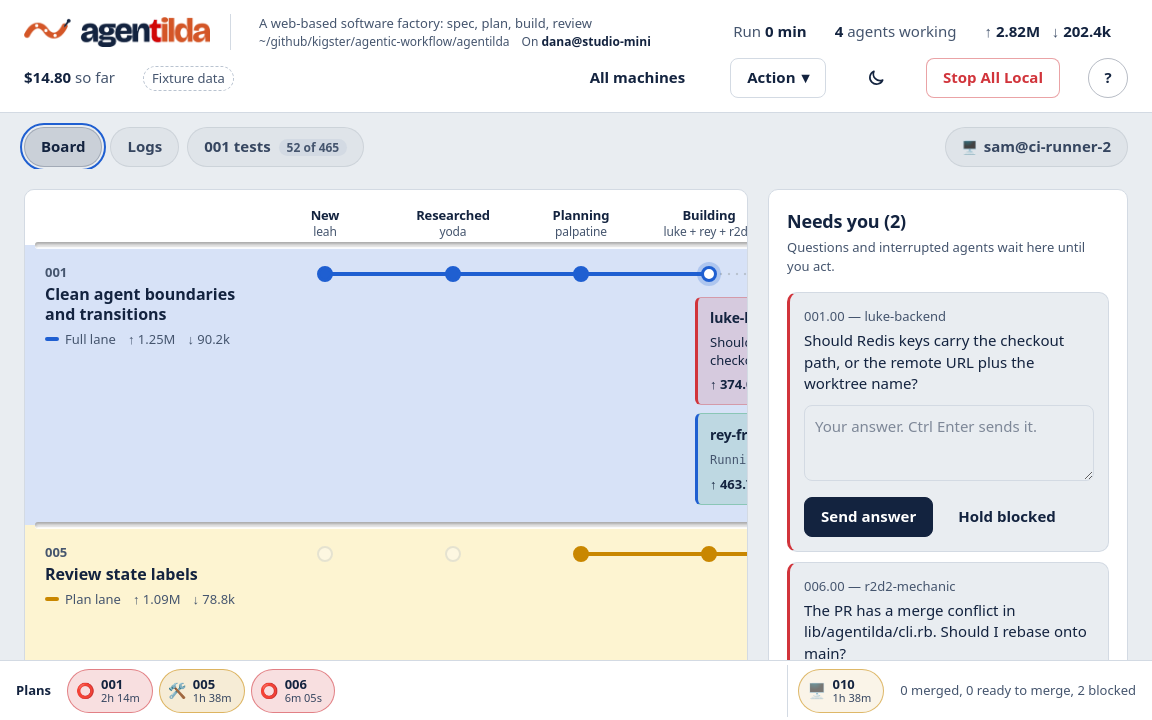
it: under ?fixture › switches tabs with the arrow keys and shows the Logs and test tabs
Press Arrowright
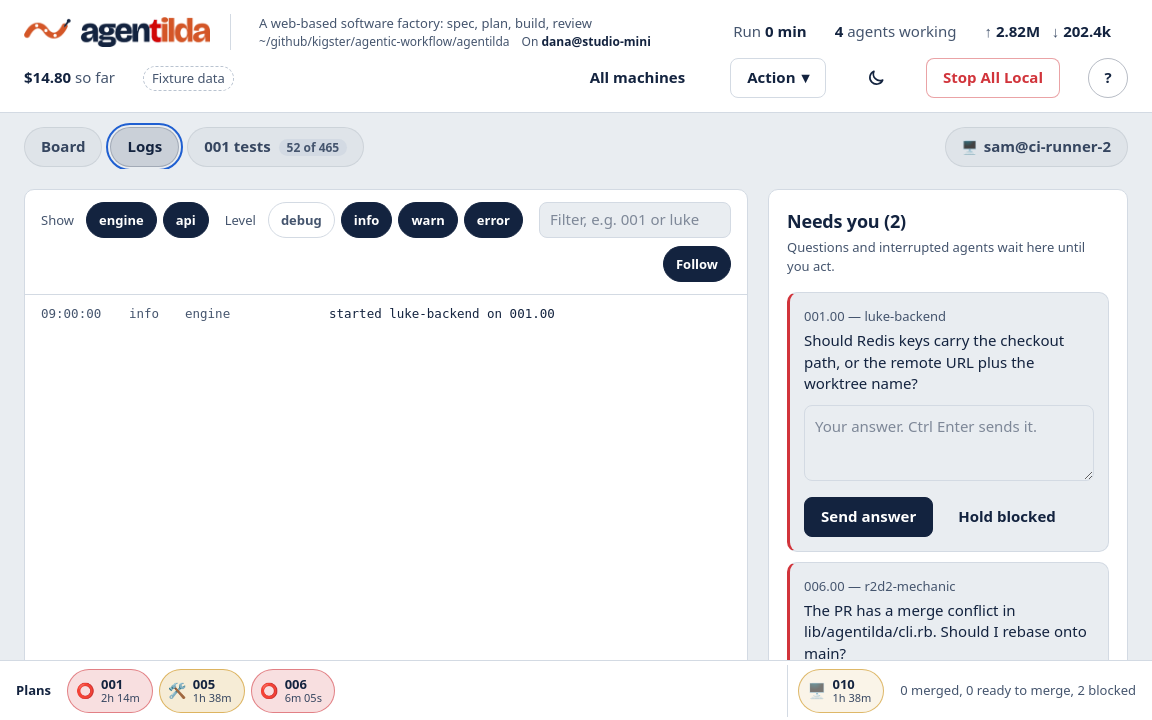
Now the list named "Log lines, newest last" is shown, box [41,306,555,321]
Click the tab "001 tests 52 of 465": (276, 147) [187,127,364,167]
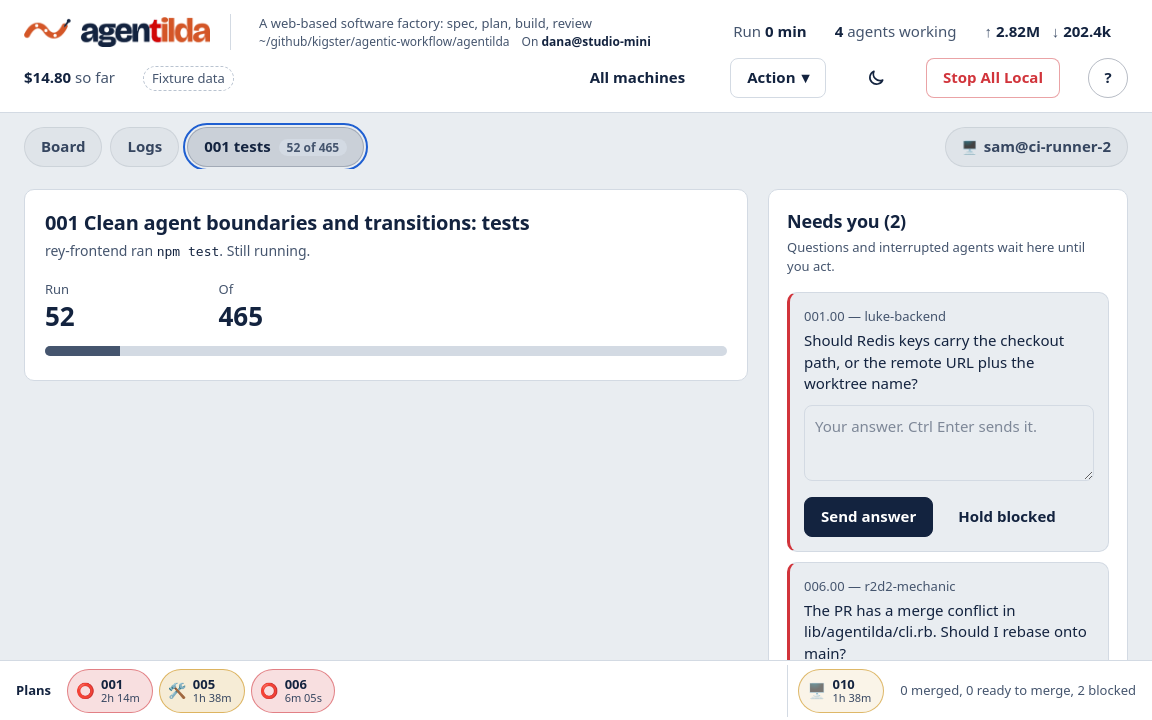
Now the heading "001 Clean agent boundaries and transitions: tests" is shown, box [45,209,530,236]
